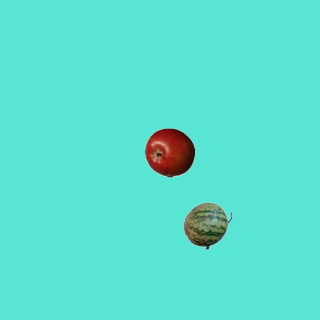Apple Braeburn: (144, 127, 194, 177)
Watermelon: (182, 200, 232, 250)
